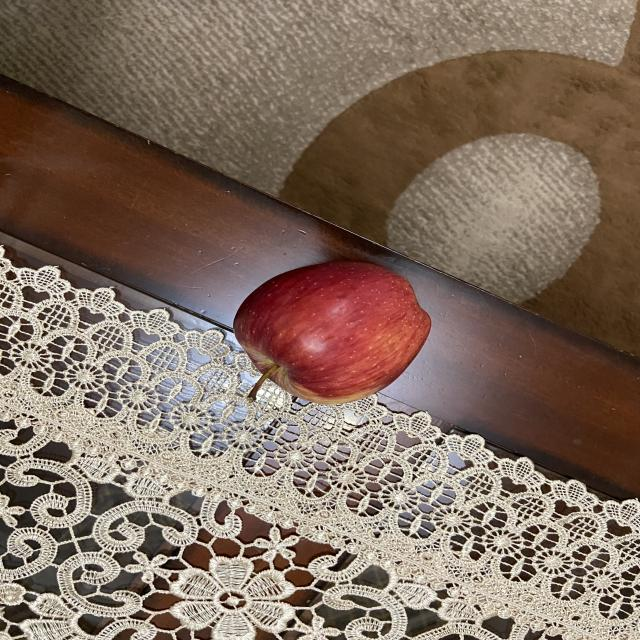apple: (225, 254, 430, 416)
